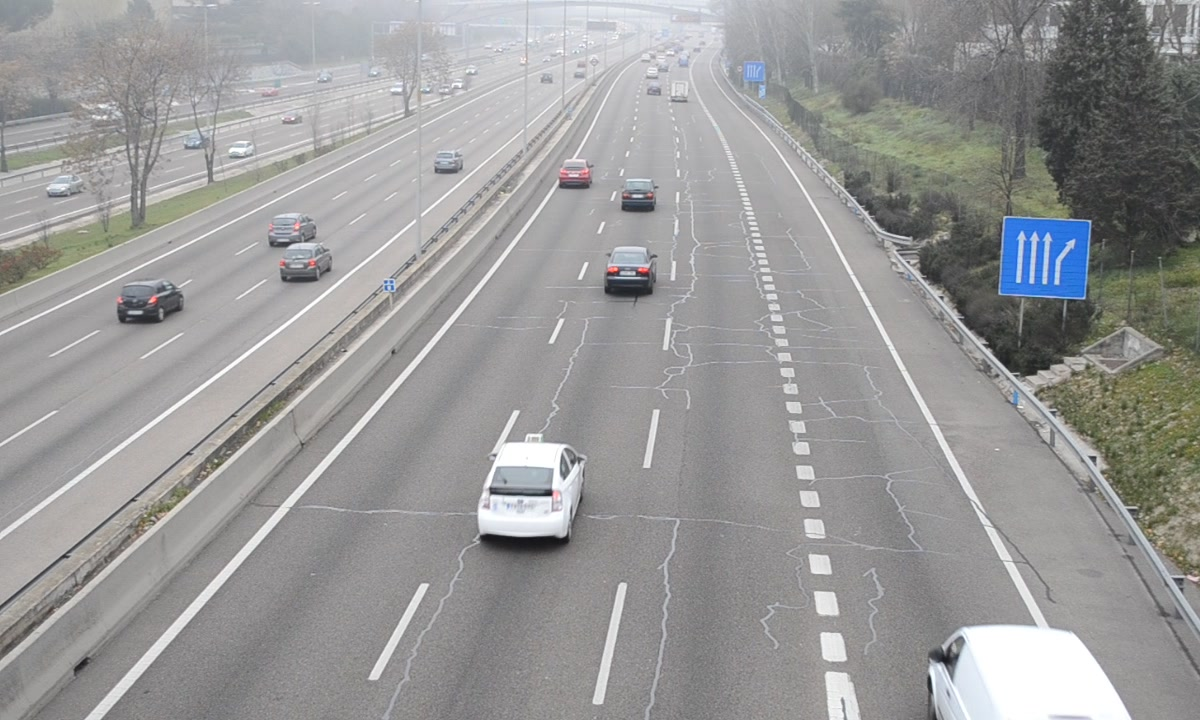car: (479, 443, 587, 540), (604, 246, 656, 295), (621, 178, 658, 213), (558, 158, 591, 189)
